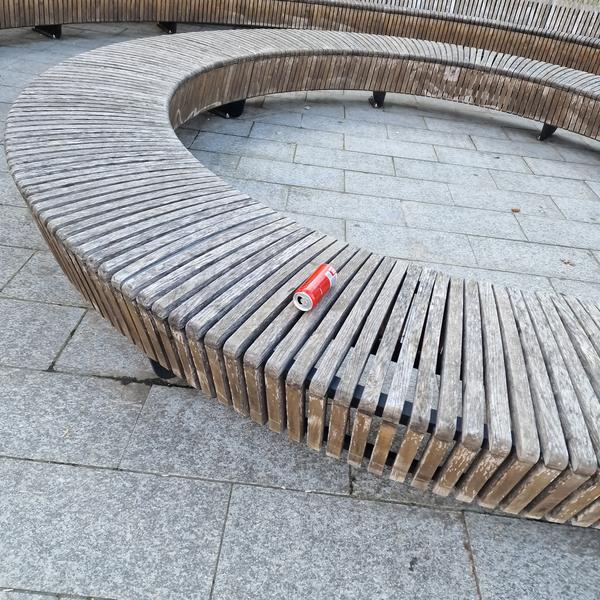can: (288, 258, 343, 317)
